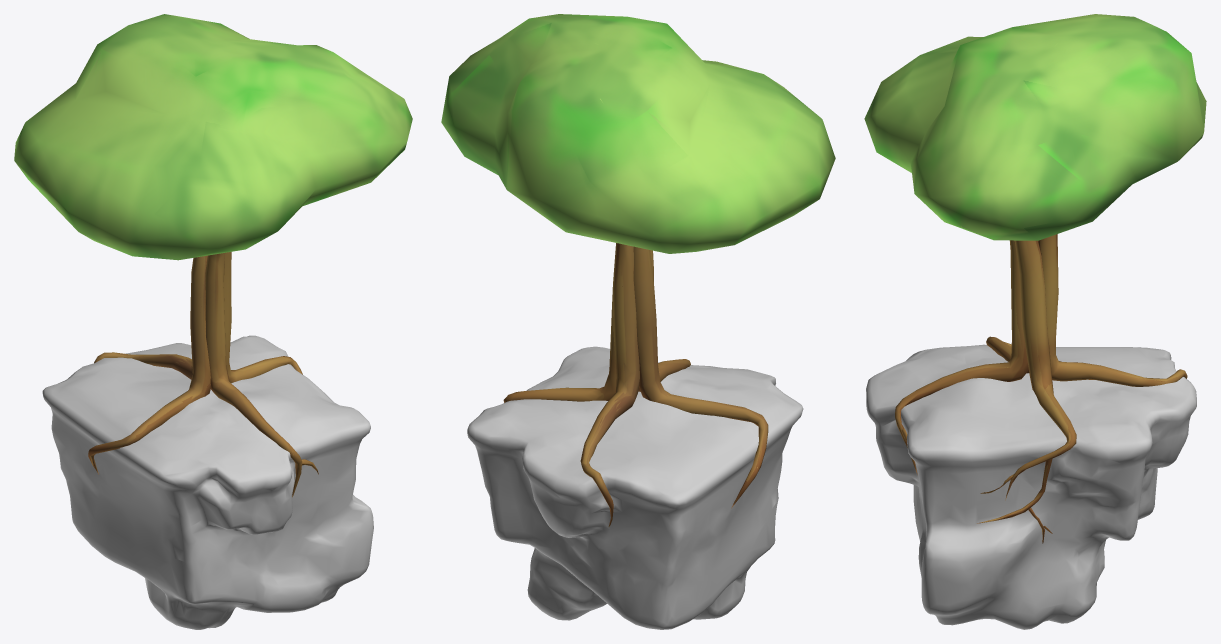
Rendered from floating tree2.fbx.
The picture shows the model from 3 angles, left to right: view 1: azimuth 30°, elevation 25°; view 2: azimuth 150°, elevation 25°; view 3: azimuth 270°, elevation 25°; orthographic projection. The views are drawn at different scales.
Visible parts, largest first — view 1: Mball.010, Plane.004, NurbsPath.004; view 2: Mball.010, Plane.004, NurbsPath.004; view 3: Plane.004, Mball.010, NurbsPath.004.
Boxes of the visible parts, left/top/right/bottom form: Mball.010: left=14, top=14, right=412, bottom=260; Plane.004: left=42, top=335, right=373, bottom=629; NurbsPath.004: left=88, top=252, right=318, bottom=497; Mball.010: left=441, top=14, right=835, bottom=253; Plane.004: left=467, top=346, right=803, bottom=629; NurbsPath.004: left=503, top=243, right=768, bottom=526; Plane.004: left=866, top=344, right=1196, bottom=629; Mball.010: left=864, top=14, right=1206, bottom=240; NurbsPath.004: left=895, top=234, right=1187, bottom=543.
Bounding box in the file's own units: 1279 × 2006 × 1081.
